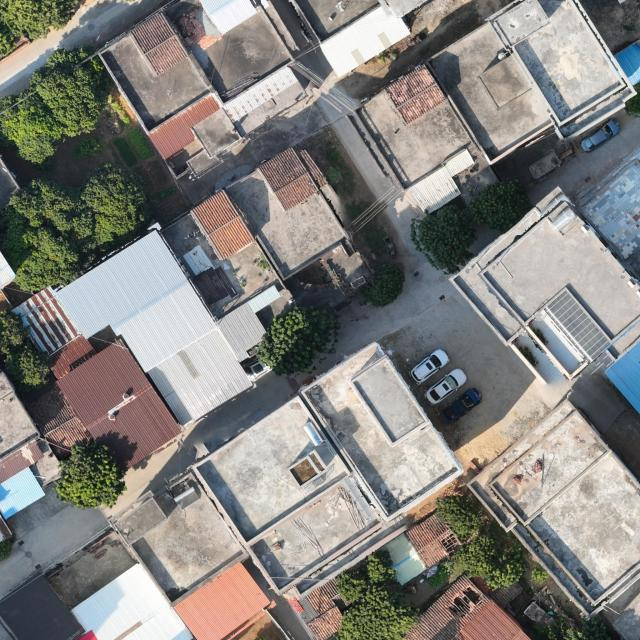Tree: (28, 42, 106, 140), (72, 160, 148, 253), (255, 304, 343, 380), (55, 440, 129, 511), (0, 86, 64, 166), (409, 203, 479, 275), (334, 584, 421, 640), (12, 224, 82, 293), (459, 531, 532, 592), (7, 175, 73, 232), (468, 181, 532, 234), (2, 340, 54, 389), (529, 612, 611, 640), (436, 494, 482, 542), (362, 263, 406, 309), (0, 306, 26, 355), (366, 548, 398, 584), (336, 569, 368, 604), (529, 564, 549, 582)
